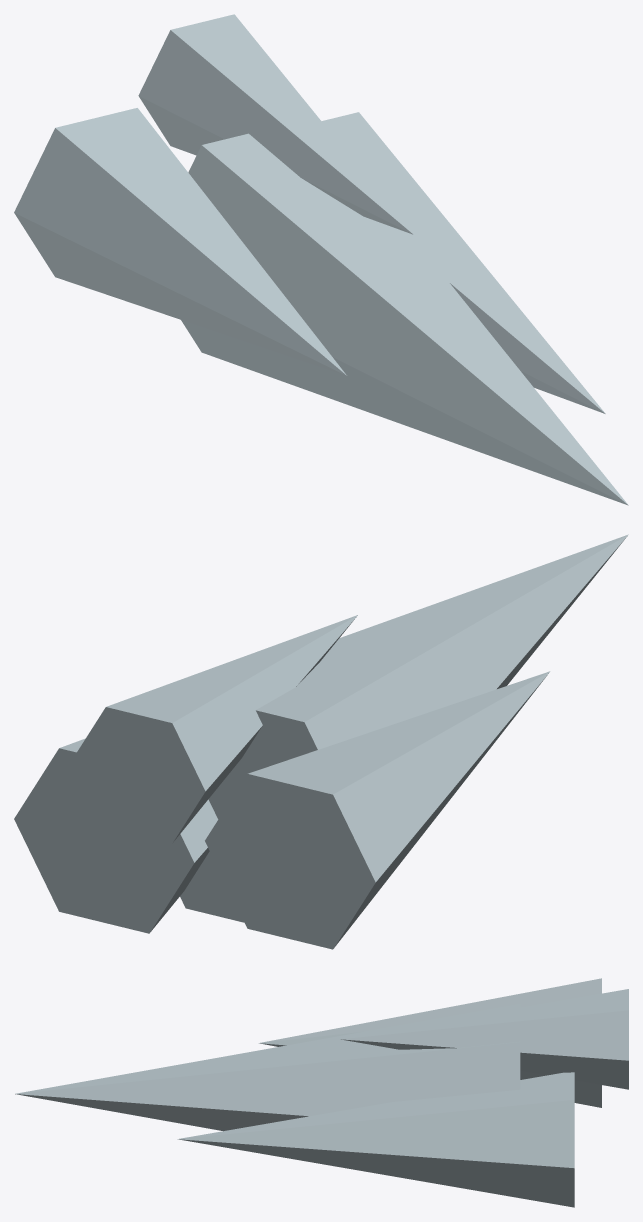
Rendered from ice_spire.glb.
3 renders of one model, top to bottom at view 1: azimuth 30°, elevation 25°; view 2: azimuth 150°, elevation 25°; view 3: azimuth 270°, elevation 25°, orthographic. The views are drawn at different scales.
Parts seen in each view (by area): view 1: ice_spire_0, ice_spire_1, ice_spire_3, ice_spire_2; view 2: ice_spire_1, ice_spire_0, ice_spire_3, ice_spire_2; view 3: ice_spire_0, ice_spire_2, ice_spire_3, ice_spire_1.
Part boxes in pixels (<box>): ice_spire_0: <box>181,133,628,505</box>; ice_spire_1: <box>14,108,346,375</box>; ice_spire_3: <box>138,14,413,234</box>; ice_spire_2: <box>321,112,605,413</box>; ice_spire_1: <box>205,671,550,949</box>; ice_spire_0: <box>180,534,628,922</box>; ice_spire_3: <box>72,615,357,843</box>; ice_spire_2: <box>14,738,218,933</box>; ice_spire_0: <box>15,1004,520,1131</box>; ice_spire_2: <box>177,1072,574,1207</box>; ice_spire_3: <box>340,989,628,1089</box>; ice_spire_1: <box>258,978,601,1107</box>.
Bounding box in the file's own units: 1.61 × 1.06 × 3.4.
